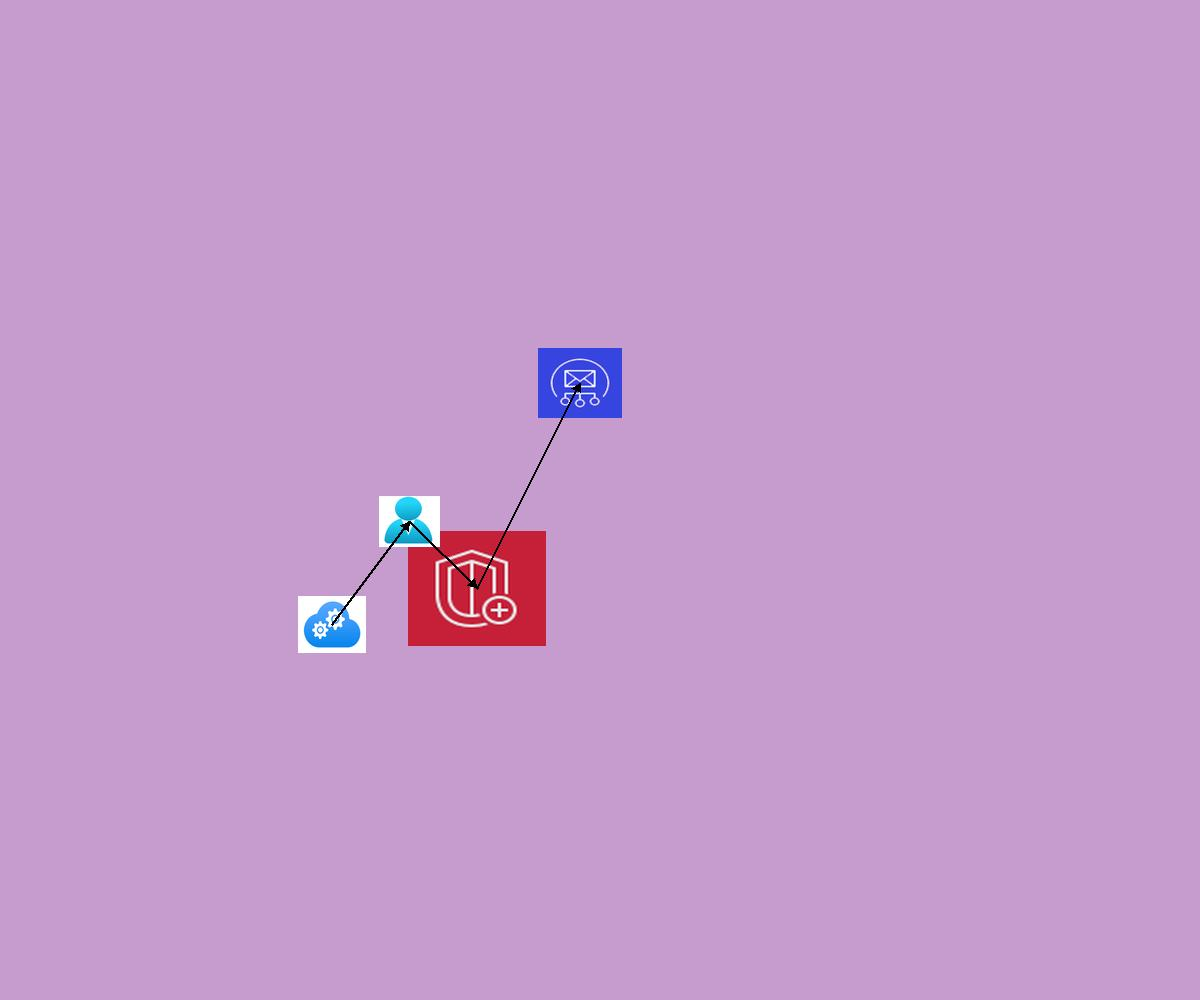AWS-Shield: (408, 531, 546, 646)
AWS-Simple-Email-Service: (538, 348, 622, 418)
Azure_cloud_services: (298, 596, 366, 653)
Azure_users: (379, 496, 440, 547)
